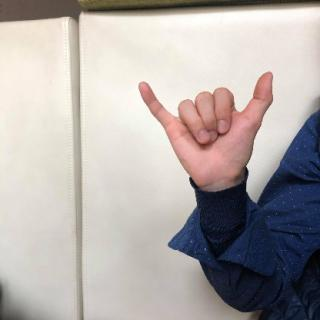YA: (132, 69, 278, 192)
